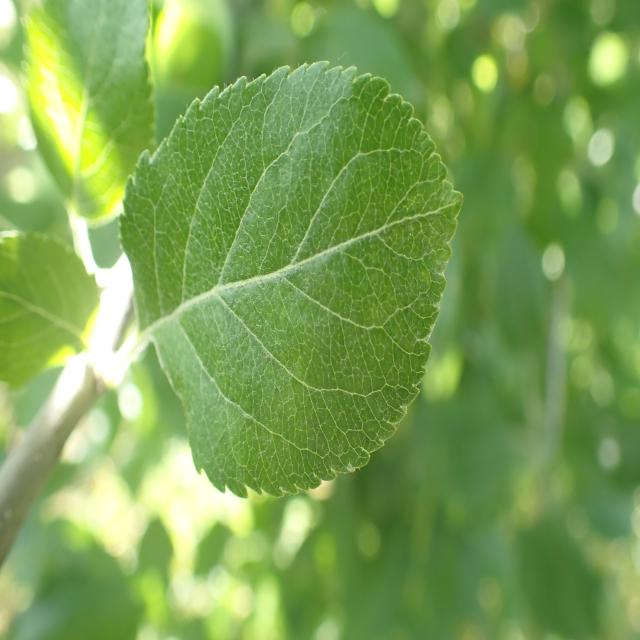healthy: (119, 58, 464, 500), (20, 0, 157, 227), (0, 229, 102, 392)
